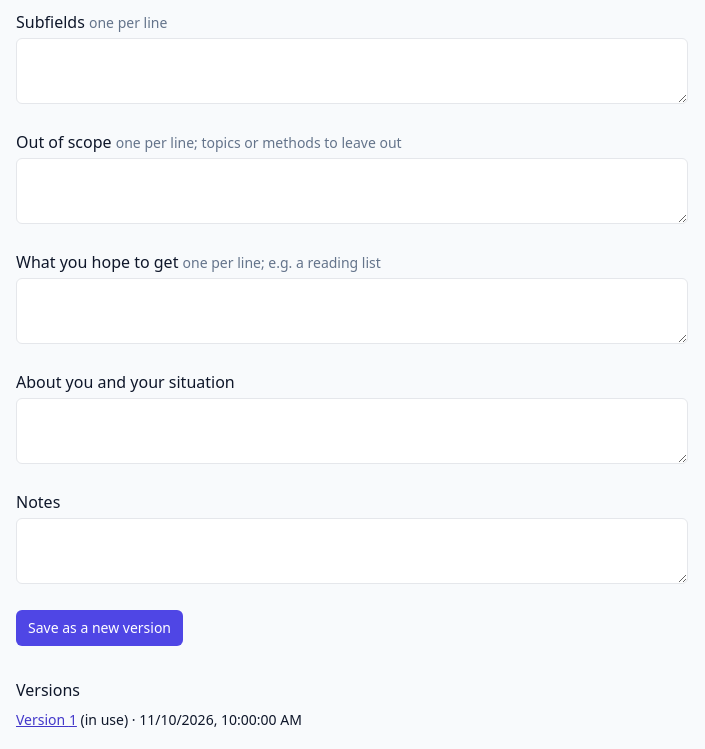
Test: a conflicting edit is reported and not silently overwritten
(page scrolled)
Click the button "Save as a new version" at (100, 628), box [16,610,183,646]
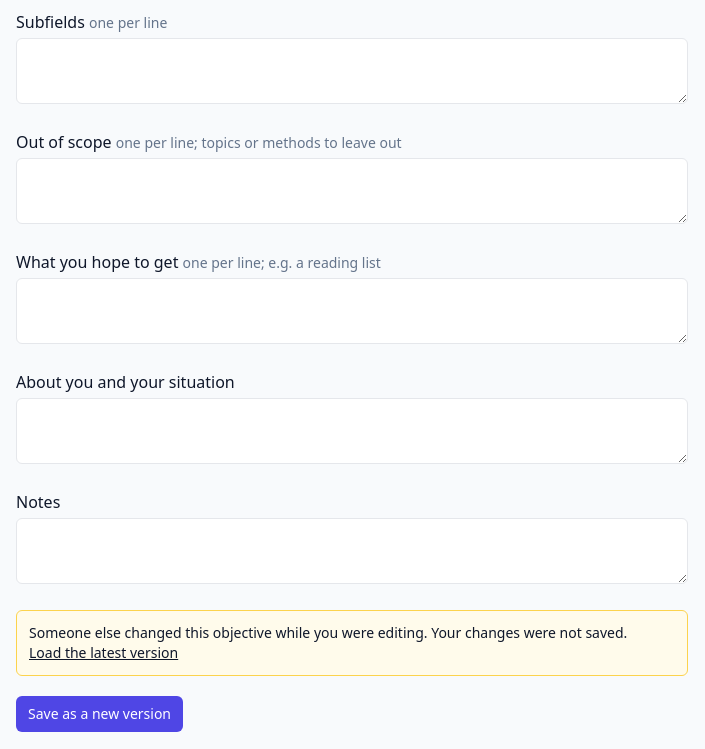
Now the text "Someone else changed this objective" is shown, box [29,623,627,642]
